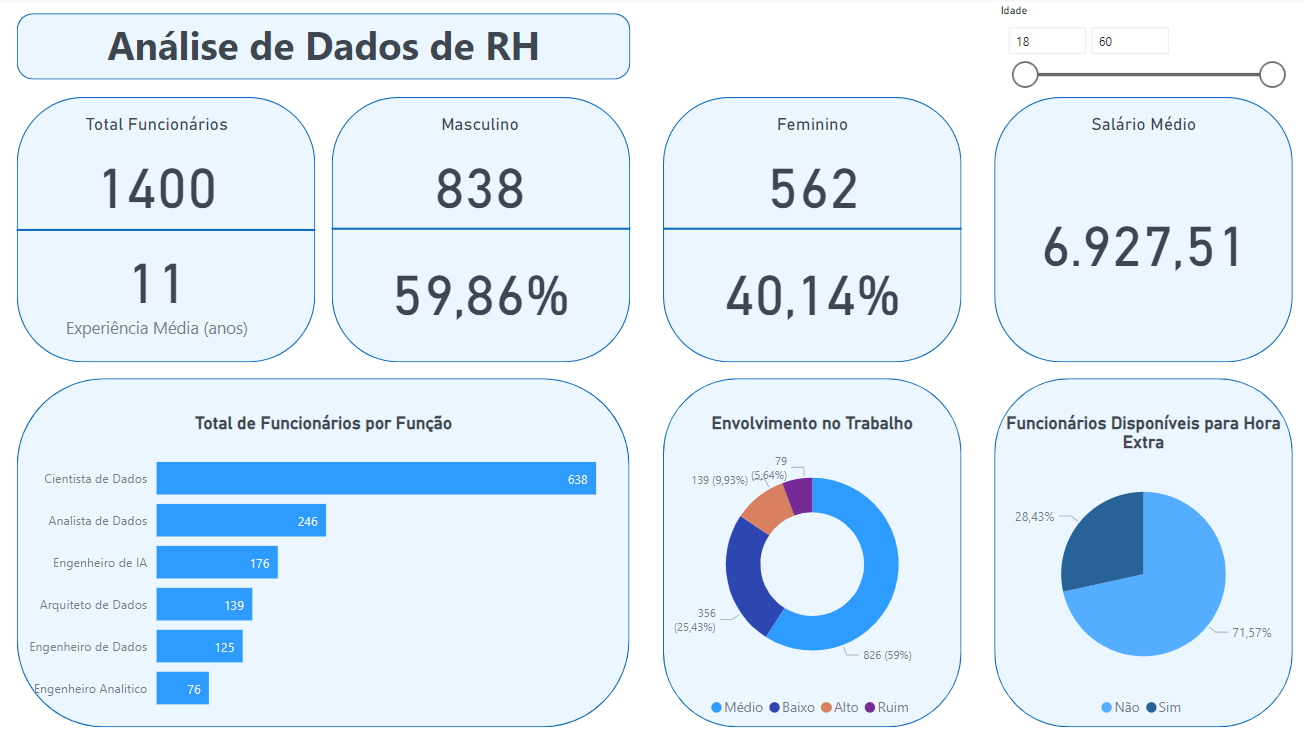

This screenshot's page, from the dashboard's own definition file:
{"tool":"powerbi","page":{"name":"DashboardRH","canvas":[1280,720],"ordinal":0},"visuals":[{"type":"textbox","box":[32,16,592,64],"z":0},{"type":"slicer","title":"Idade","fields":{"Values":["DatasetRH.Idade"]},"box":[976.6,6.4,288,84.5],"z":1000},{"type":"clusteredBarChart","title":"Total de Funcionários por Função","fields":{"Category":["DatasetRH.Funcao"],"Y":["Medidas.TotalFunc"]},"box":[32,400,592,304],"z":2000},{"type":"card","title":"Total Funcionários","fields":{"Values":["Medidas.TotalFunc"]},"box":[16,112,304,112],"z":3000},{"type":"card","title":"Total Funcionários","fields":{"Values":["Avg(DatasetRH.Anos_Experiencia)"]},"box":[16,224,304,112],"z":4000},{"type":"card","title":"Masculino","fields":{"Values":["Medidas.TotalMasculino"]},"box":[320,112,320,112],"z":5000},{"type":"card","title":"Salário Médio","fields":{"Values":["Medidas.SalarioMedio"]},"box":[960,112,320,224],"z":6000},{"type":"card","title":"Feminino","fields":{"Values":["Medidas.TotalFeminino"]},"box":[640,112,320,112],"z":7000},{"type":"card","title":"Total Funcionários","fields":{"Values":["Medidas.% Masculino"]},"box":[320,224,320,112],"z":8000},{"type":"card","title":"Total Funcionários","fields":{"Values":["Medidas.% Feminino"]},"box":[640,224,320,112],"z":9000},{"type":"donutChart","title":"Envolvimento no Trabalho","fields":{"Y":["Medidas.TotalFunc"],"Category":["DatasetRH.Envolvimento_Trabalho"]},"box":[656,400,288,304],"z":10000},{"type":"pieChart","title":"Funcionários Disponíveis para Hora Extra","fields":{"Category":["DatasetRH.Disponivel_Hora_Extra"],"Y":["Medidas.TotalFunc"]},"box":[976,400,288,304],"z":11000},{"type":"shape","box":[32,96,288,256],"z":12000},{"type":"shape","box":[976,96,288,256],"z":13000},{"type":"shape","box":[336,96,288,256],"z":14000},{"type":"shape","box":[656,96,288,256],"z":15000},{"type":"shape","box":[656.1,367.8,288.2,336.5],"z":16000},{"type":"shape","box":[975.7,367.8,288.2,336.5],"z":17000},{"type":"shape","box":[32.6,367.8,591,336.5],"z":18000},{"type":"shape","box":[32,16,592,64],"z":19000},{"type":"shape","box":[32.6,74.8,288.2,300.3],"z":20000},{"type":"shape","box":[336.5,73.6,288.2,300.3],"z":21000},{"type":"shape","box":[656.1,73.6,288.2,300.3],"z":22000}]}

Visuals, with their boxes in screenshot pixels (x1, y1, x2, y2), scaled from the page's 1280x720 canvas onto the 1304x741 screenshot:
textbox: 33 16 636 82
"Idade" slicer: 995 7 1288 94
"Total de Funcionários por Função" clusteredBarChart: 33 412 636 725
"Total Funcionários" card: 16 115 326 231
"Total Funcionários" card: 16 231 326 346
"Masculino" card: 326 115 652 231
"Salário Médio" card: 978 115 1303 346
"Feminino" card: 652 115 978 231
"Total Funcionários" card: 326 231 652 346
"Total Funcionários" card: 652 231 978 346
"Envolvimento no Trabalho" donutChart: 668 412 962 725
"Funcionários Disponíveis para Hora Extra" pieChart: 994 412 1288 725
shape: 33 99 326 362
shape: 994 99 1288 362
shape: 342 99 636 362
shape: 668 99 962 362
shape: 668 379 962 725
shape: 994 379 1288 725
shape: 33 379 635 725
shape: 33 16 636 82
shape: 33 77 327 386
shape: 343 76 636 385
shape: 668 76 962 385
